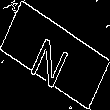N_NE: (31, 23, 79, 87)
